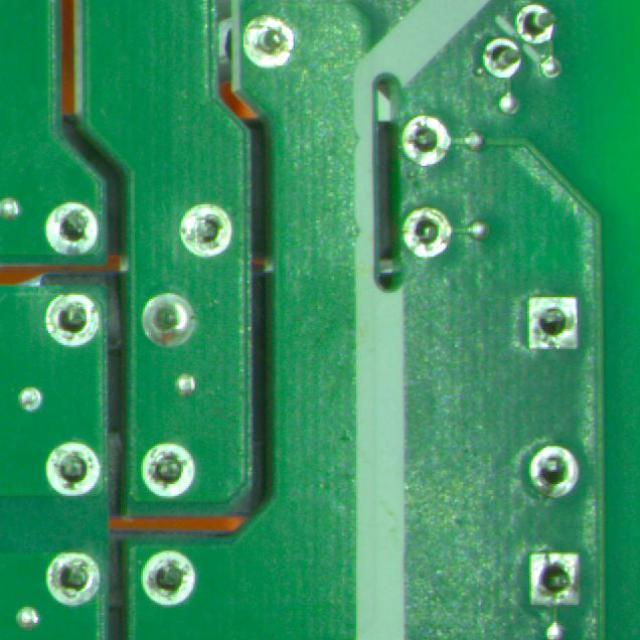Insufficient solder: (521, 286, 591, 360), (518, 544, 592, 614), (41, 547, 107, 613), (138, 436, 202, 504), (177, 197, 236, 267), (136, 546, 202, 608), (43, 438, 105, 502), (41, 286, 102, 346), (41, 200, 100, 262), (524, 438, 582, 499), (240, 13, 298, 70), (398, 114, 456, 170), (399, 207, 454, 260), (512, 2, 558, 48), (478, 38, 522, 79)
